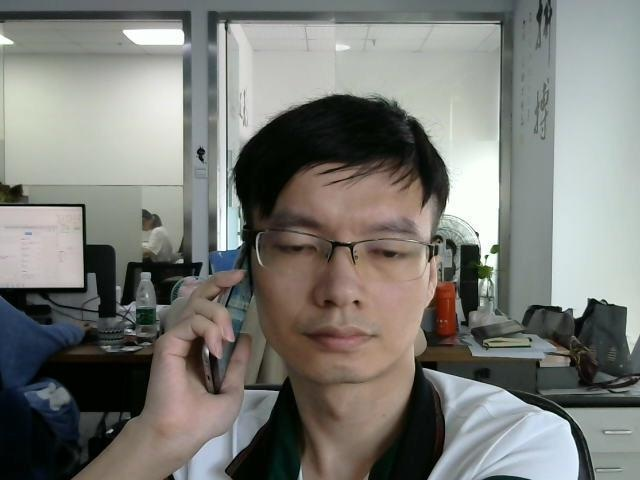hand: (153, 273, 250, 426)
